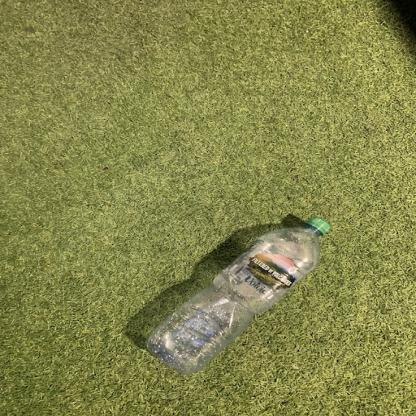trash: (141, 216, 331, 377)
